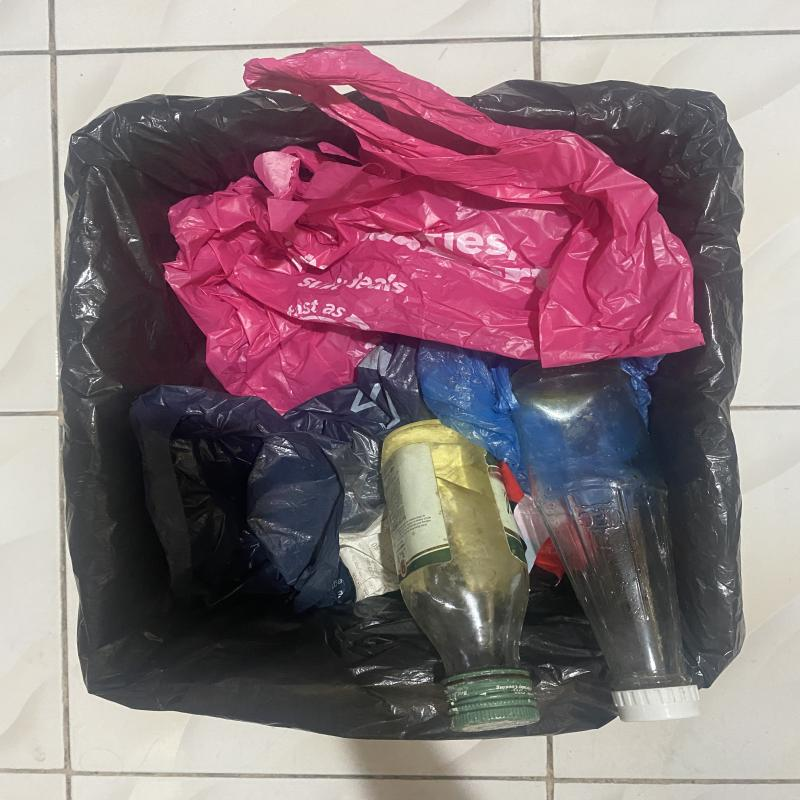glass bottle: (509, 358, 701, 723), (378, 422, 540, 730)
plastic bag: (165, 46, 704, 419), (126, 387, 343, 685), (280, 334, 437, 666), (414, 339, 532, 490)
